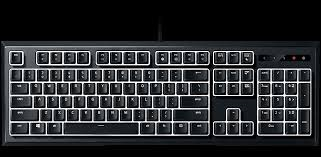keyboard: (3, 45, 316, 142)
